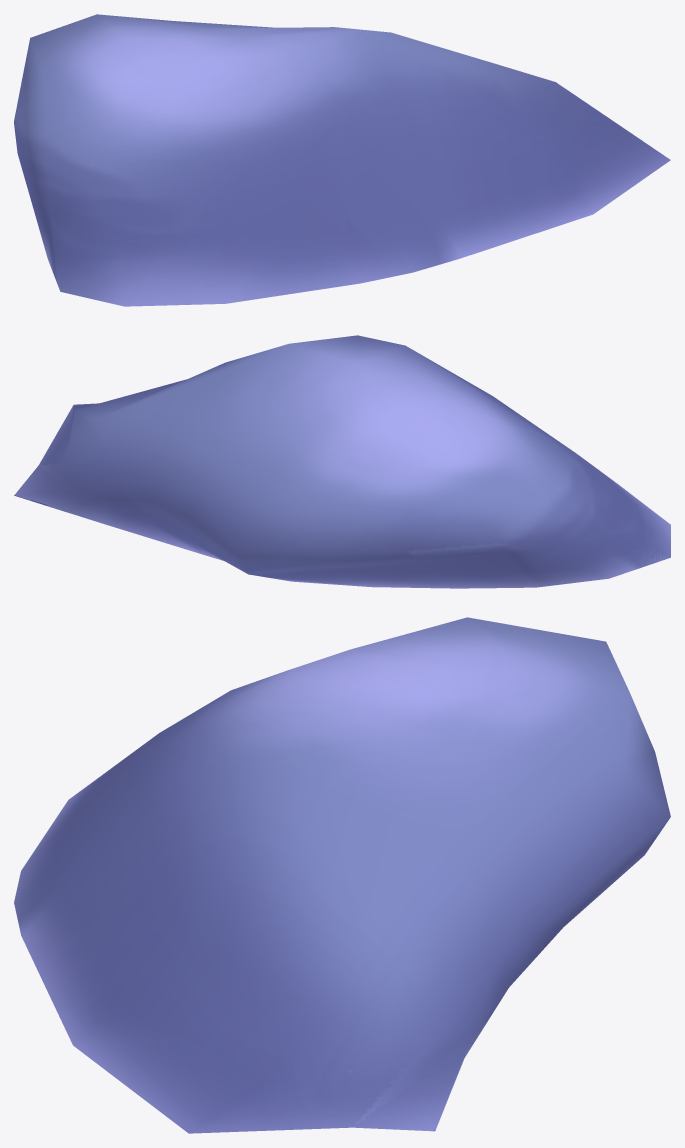
File: Swamp_Rocks_1.glb
The picture shows the model from 3 angles, top to bottom: view 1: azimuth 30°, elevation 25°; view 2: azimuth 150°, elevation 25°; view 3: azimuth 270°, elevation 25°; orthographic projection. The views are drawn at different scales.
Visible parts, largest first — view 1: Cube.002; view 2: Cube.002; view 3: Cube.002.
Boxes of the visible parts, box(x1,y1,x2,y2) form: Cube.002: box(14, 14, 670, 306); Cube.002: box(14, 335, 670, 588); Cube.002: box(14, 617, 670, 1133).
Bounding box in the file's own units: 175 × 48.26 × 124.
1 material, 1 textured.
